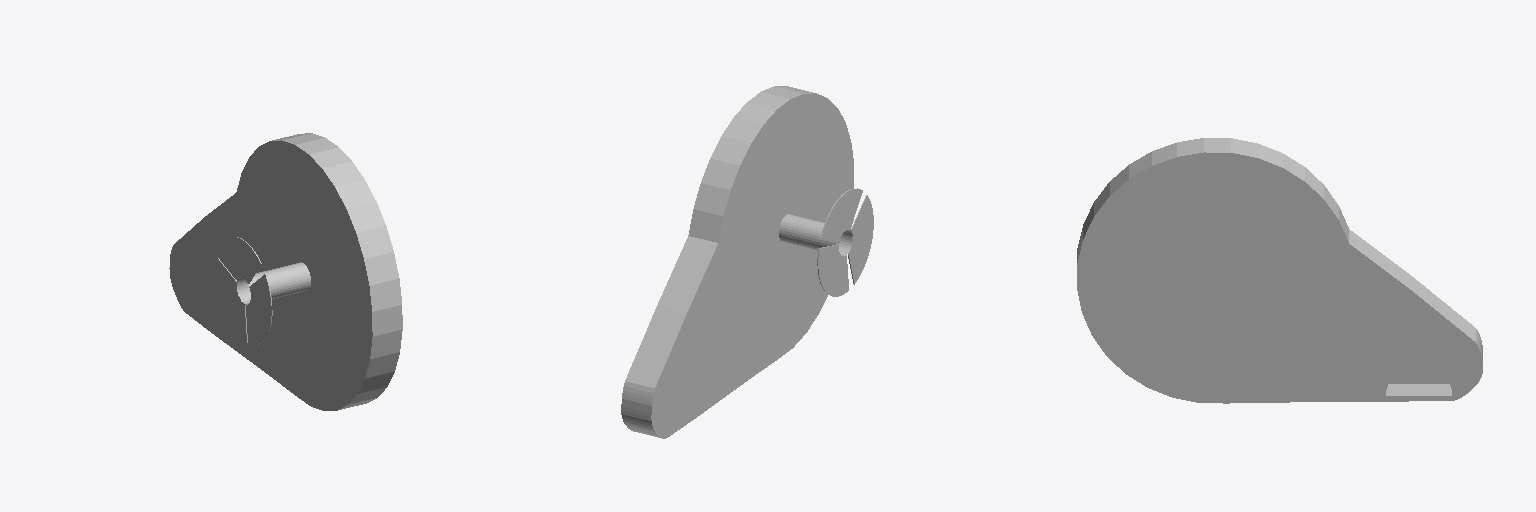
File: EndCap.obj
3 views of the same model, side by side, from view 1: azimuth 30°, elevation 25°; view 2: azimuth 150°, elevation 25°; view 3: azimuth 270°, elevation 25° (orthographic).
Parts seen in each view (by area): view 1: EndCap_Cylinder.002; view 2: EndCap_Cylinder.002; view 3: EndCap_Cylinder.002.
Part boxes in pixels (left/top/right/bottom): EndCap_Cylinder.002: left=169, top=133, right=402, bottom=410; EndCap_Cylinder.002: left=621, top=86, right=873, bottom=438; EndCap_Cylinder.002: left=1077, top=138, right=1482, bottom=403.
Bounding box in the file's own units: 0.1874 × 0.4984 × 0.7305.